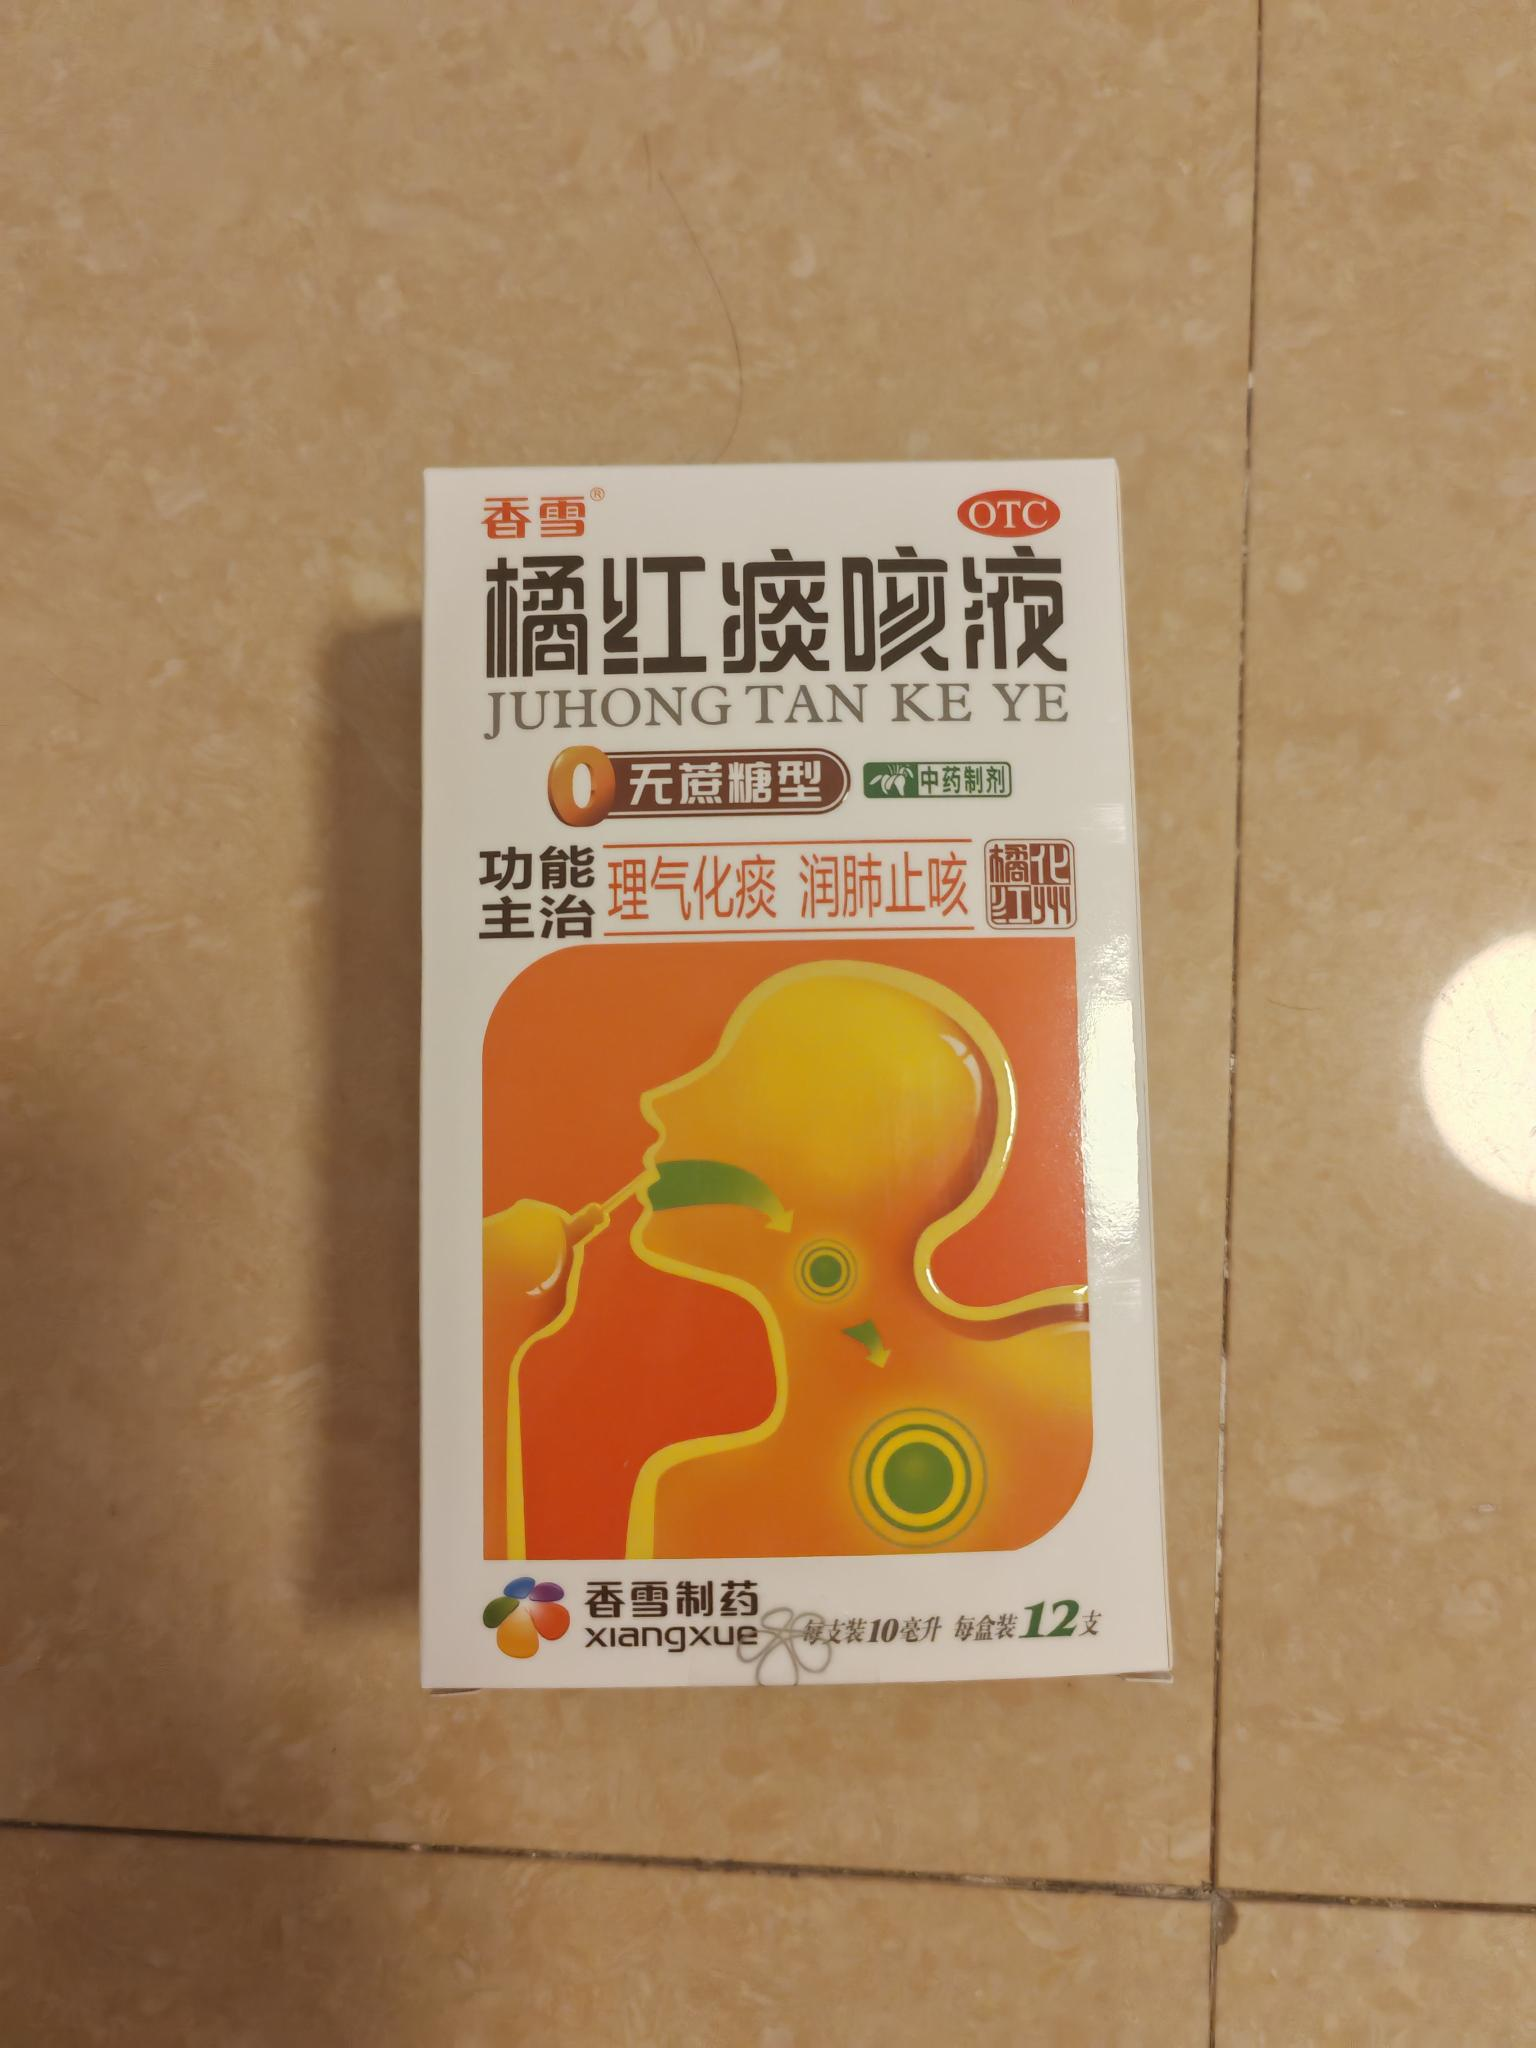Medicine1: (387, 443, 1197, 1713)
